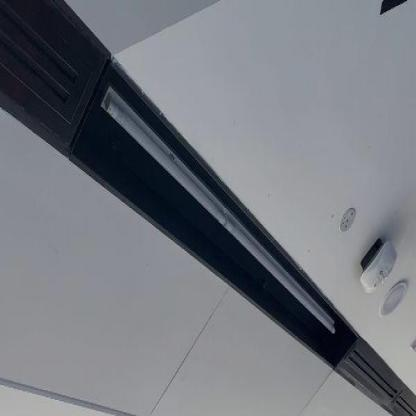light_off: (95, 68, 340, 349)
